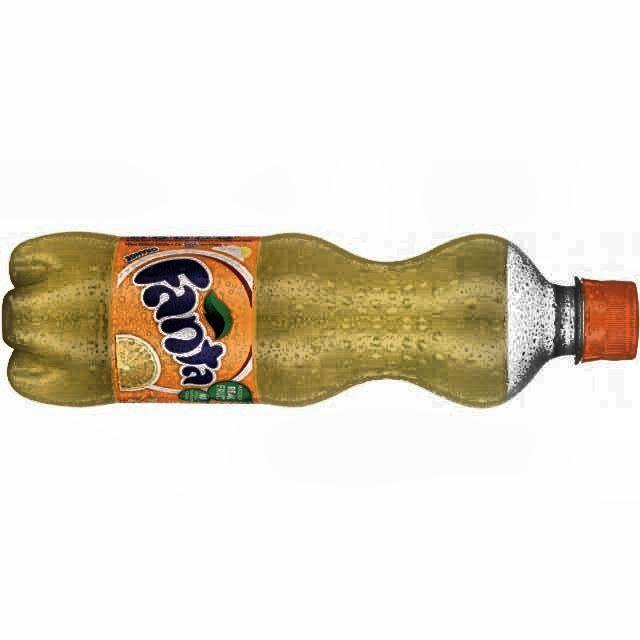plastic: (2, 232, 639, 406)
